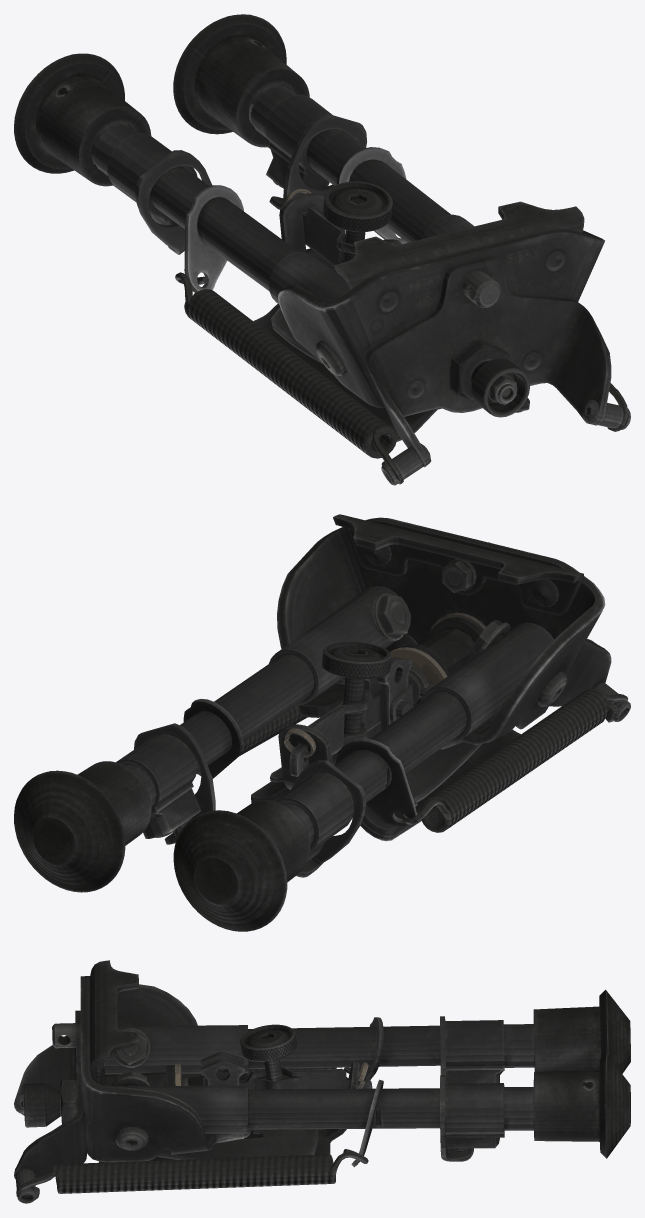
The picture shows the model from 3 angles, top to bottom: view 1: azimuth 30°, elevation 25°; view 2: azimuth 150°, elevation 25°; view 3: azimuth 270°, elevation 25°; orthographic projection. The views are drawn at different scales.
Visible parts, largest first — view 1: TW_5888961624597754281f93f3_PZ_Import; view 2: TW_5888961624597754281f93f3_PZ_Import; view 3: TW_5888961624597754281f93f3_PZ_Import.
Boxes of the visible parts, left/top/right/bottom form: TW_5888961624597754281f93f3_PZ_Import: left=14, top=14, right=630, bottom=485; TW_5888961624597754281f93f3_PZ_Import: left=14, top=514, right=630, bottom=931; TW_5888961624597754281f93f3_PZ_Import: left=14, top=960, right=630, bottom=1203.
Bounding box in the file's own units: 0.0487 × 0.112 × 0.0315.
1 material, 1 textured.
